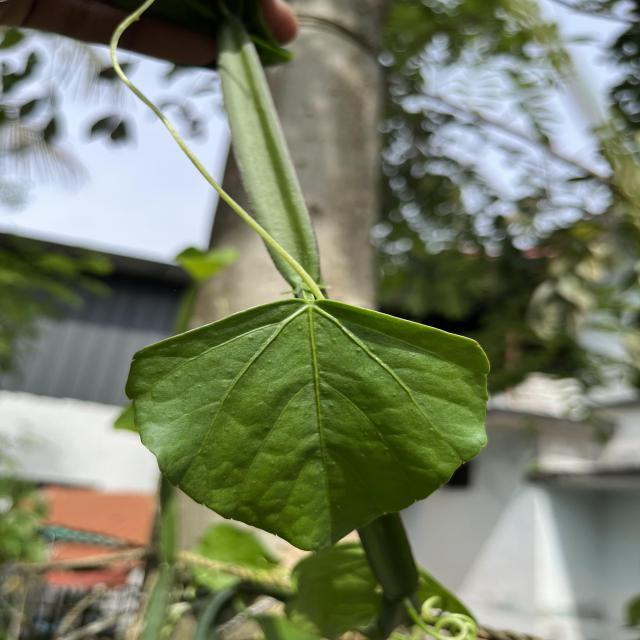Cissus quadrangularis: (122, 294, 494, 556)
